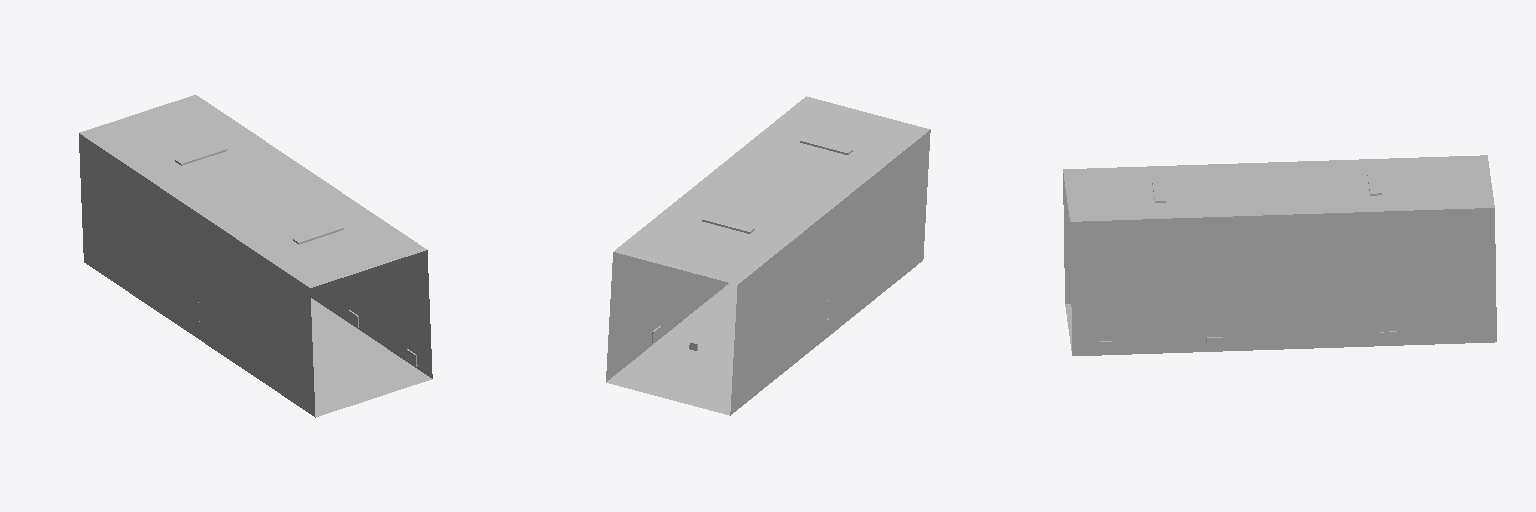
Rendered from room.obj.
The picture shows the model from 3 angles: view 1: azimuth 30°, elevation 25°; view 2: azimuth 150°, elevation 25°; view 3: azimuth 270°, elevation 25°; orthographic projection.
Parts seen in each view (by area): view 1: Top_Bake; view 2: Top_Bake; view 3: Top_Bake.
Part boxes in pixels (x1,y1,x2,y2): Top_Bake: (79, 95, 432, 417); Top_Bake: (606, 96, 930, 415); Top_Bake: (1063, 155, 1496, 355).
Size of the model in its own units: 6.9 by 6.4 by 17.66.